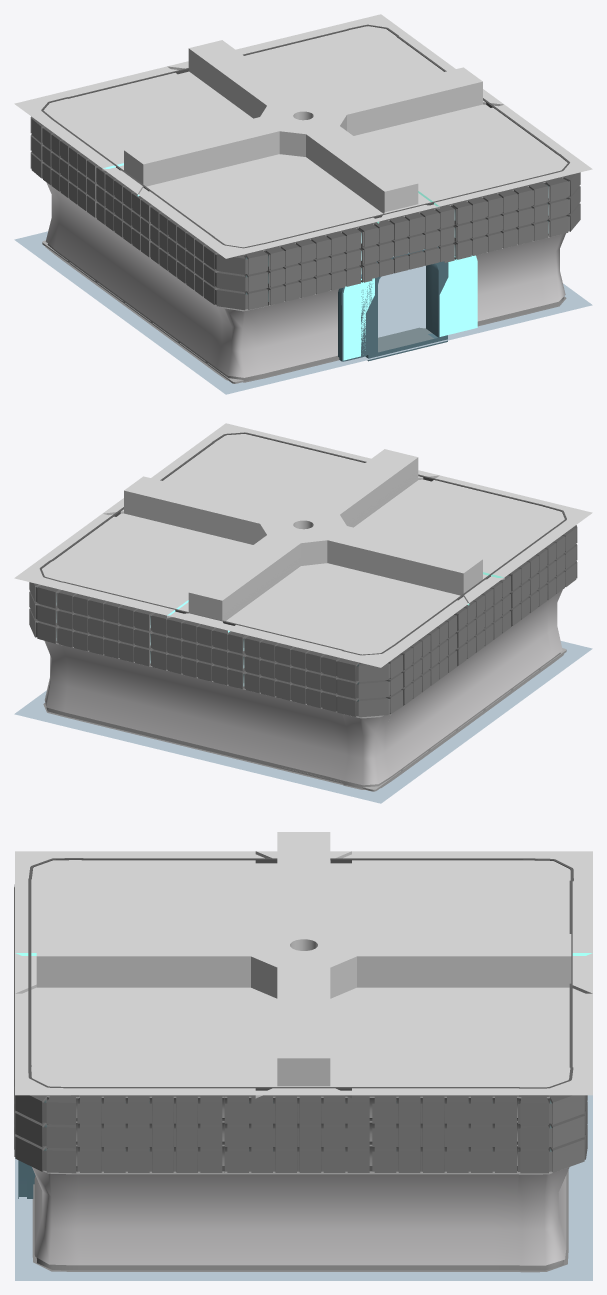
File: PreVis_SmallRoomExportJoined.fbx
3 views of the same model, one above another, from view 1: azimuth 30°, elevation 25°; view 2: azimuth 150°, elevation 25°; view 3: azimuth 270°, elevation 25° (orthographic). The views are drawn at different scales.
Visible parts, largest first — view 1: m_smallRoom001; view 2: m_smallRoom001; view 3: m_smallRoom001.
Boxes of the visible parts, <box> form: m_smallRoom001: <box>14,14,592,394</box>; m_smallRoom001: <box>14,423,592,803</box>; m_smallRoom001: <box>14,832,592,1280</box>.
Bounding box in the file's own units: 1010 × 418 × 1012.
